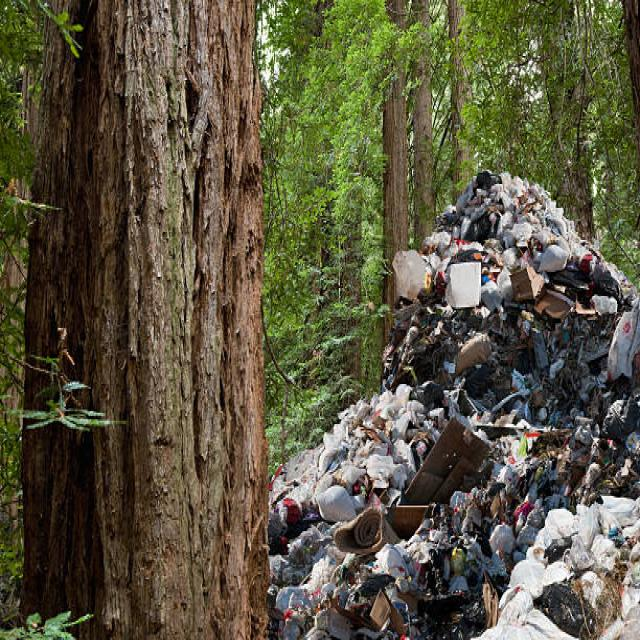trash: (300, 170, 599, 590)
